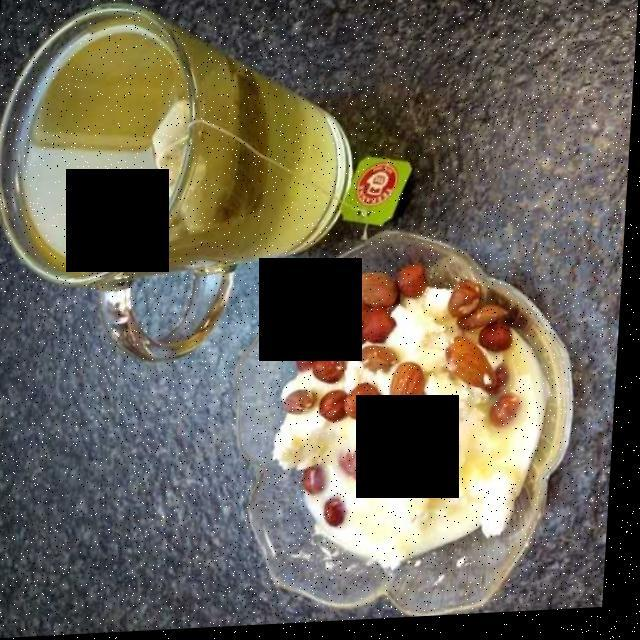curd: (282, 276, 528, 567)
nuts: (281, 273, 523, 526)
tea: (8, 22, 343, 280)
